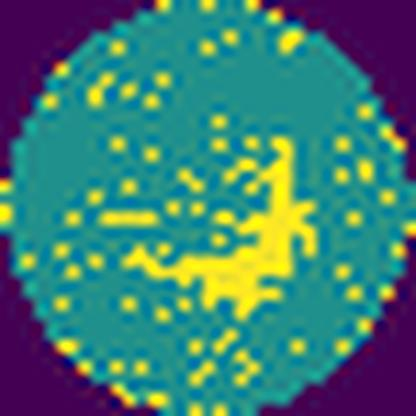Donut: (103, 113, 327, 318)
